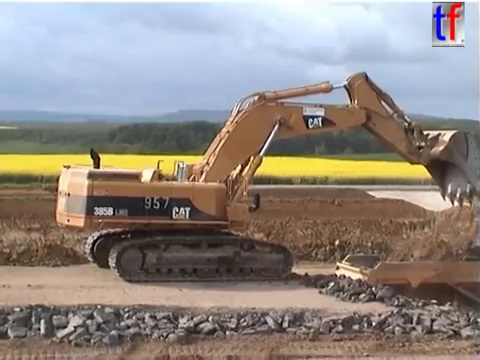excavator: (52, 67, 480, 286)
truck: (332, 251, 480, 337)
